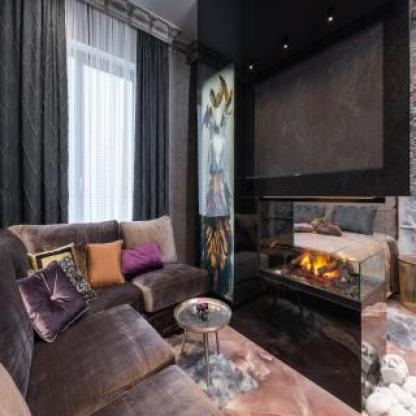fire: (292, 243, 340, 289)
